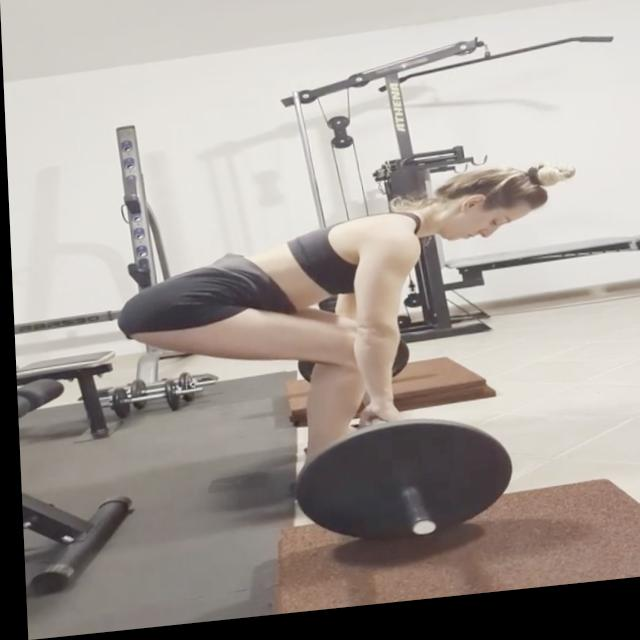barbell: (279, 417, 515, 571)
